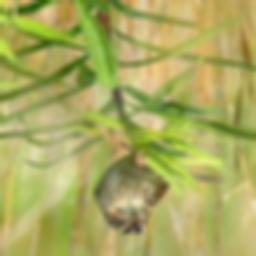Sparrow: (92, 120, 228, 237)
